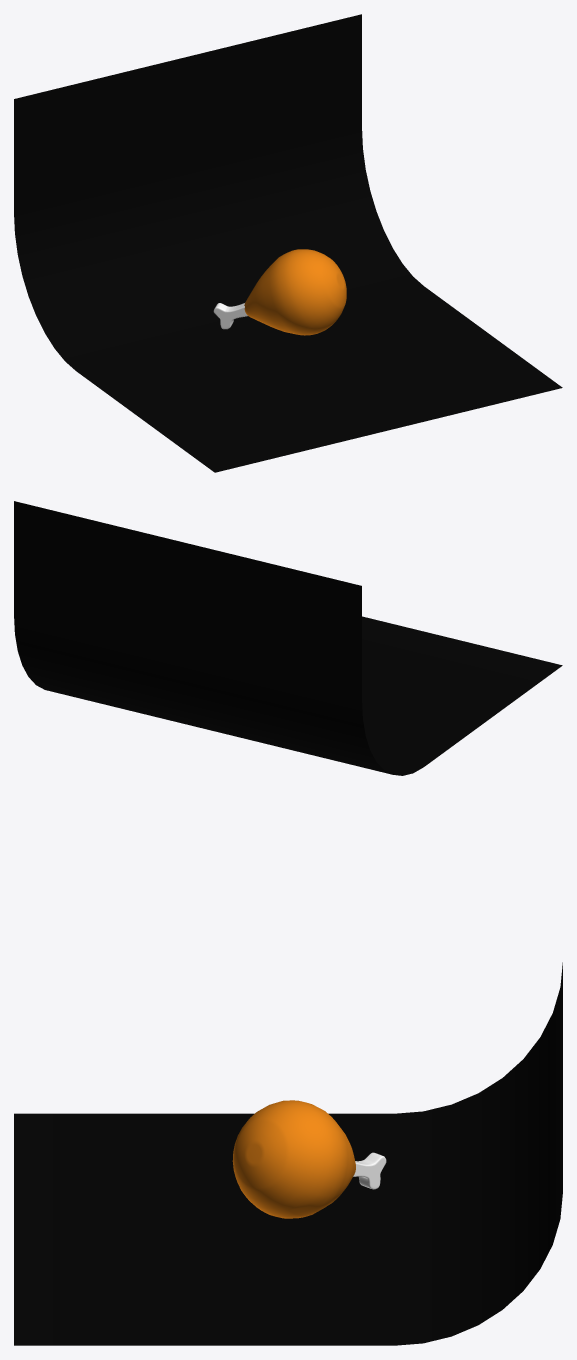
File: Chicken leg.fbx
3 views of the same model, one above another, from view 1: azimuth 30°, elevation 25°; view 2: azimuth 150°, elevation 25°; view 3: azimuth 270°, elevation 25° (orthographic). The views are drawn at different scales.
Parts seen in each view (by area): view 1: Plane, Circle; view 2: Plane; view 3: Plane, Circle, Cube.
Boxes of the visible parts, x1=… form: Plane: x1=14, y1=14, x2=562, y2=472; Circle: x1=244, y1=249, x2=346, y2=335; Plane: x1=14, y1=501, x2=562, y2=775; Plane: x1=14, y1=962, x2=562, y2=1345; Circle: x1=232, y1=1100, x2=355, y2=1218; Cube: x1=353, y1=1152, x2=386, y2=1189.
Size of the model in its own units: 1316 by 819 by 1316.
